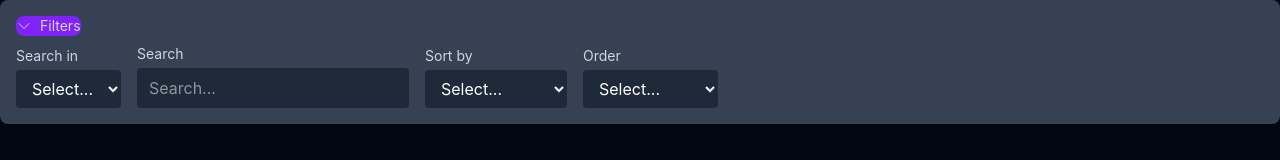
Test: FilterWidget › toggles filter content when toggle button is clicked
Check: the element with class "flex-wrap" is shown, box [16, 45, 718, 108]
Step 1. Click the button "Filters" → point(48, 26), box [16, 16, 80, 36]
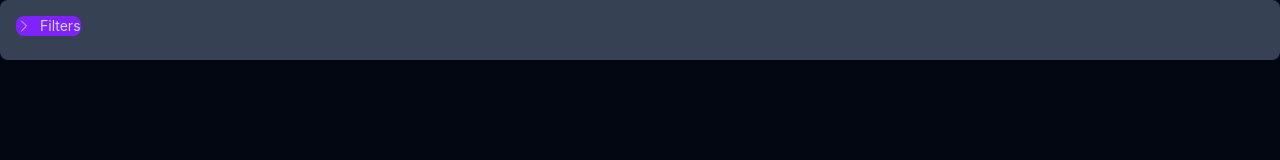
Check: the element with class "flex-wrap" is gone
